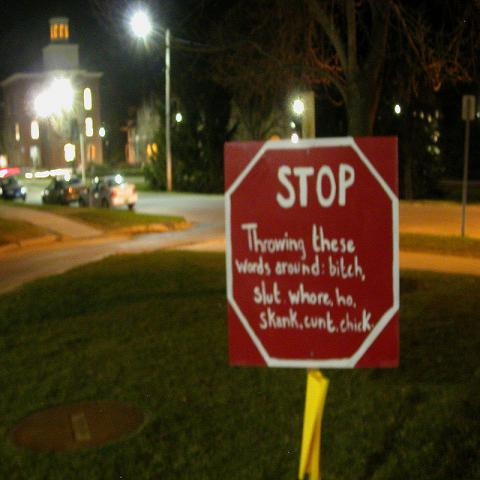car: (78, 177, 137, 213), (44, 177, 84, 204), (0, 175, 26, 202)
